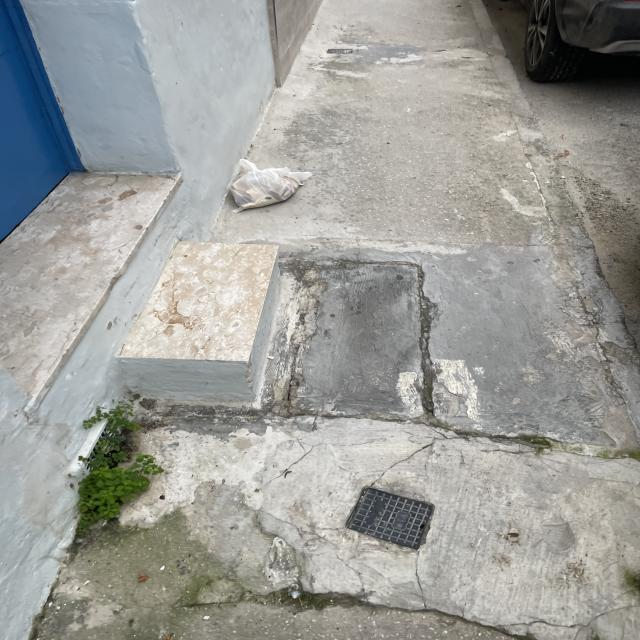white_bag: (225, 155, 314, 215)
